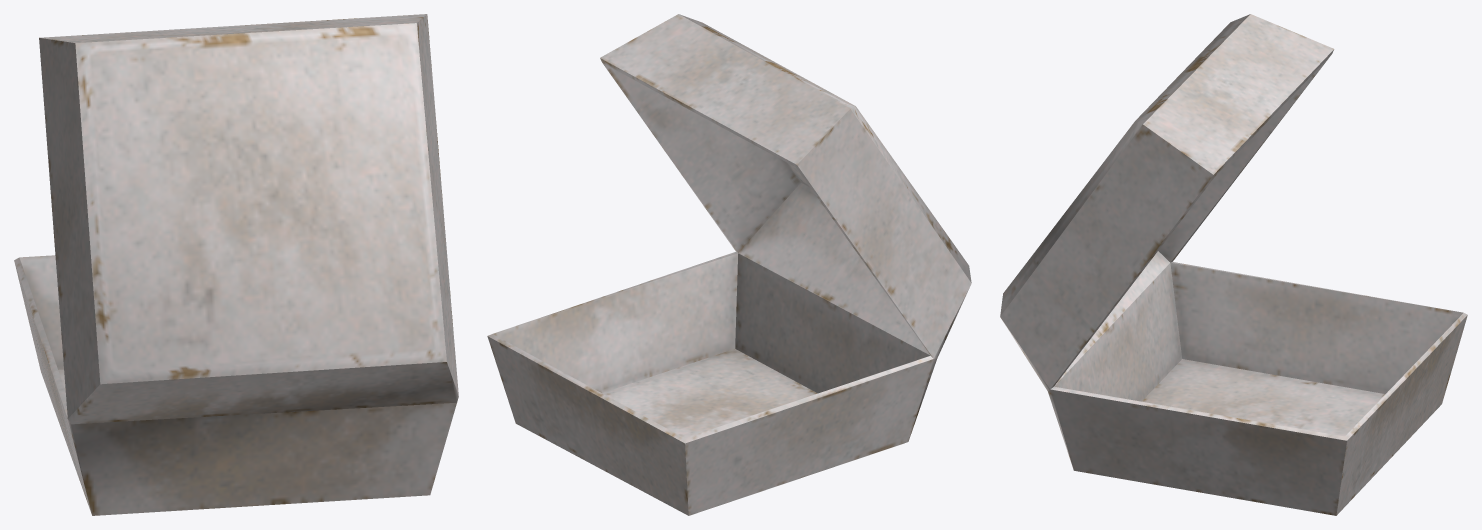
Rendered from SM_Food_Box_02.FBX.
3 renders of one model, left to right at view 1: azimuth 30°, elevation 25°; view 2: azimuth 150°, elevation 25°; view 3: azimuth 270°, elevation 25°, orthographic. The views are drawn at different scales.
Visible parts, largest first — view 1: SM_Food_Box_02; view 2: SM_Food_Box_02; view 3: SM_Food_Box_02.
Boxes of the visible parts, <box> form: SM_Food_Box_02: <box>14,14,458,515</box>; SM_Food_Box_02: <box>487,14,971,515</box>; SM_Food_Box_02: <box>1000,14,1467,515</box>.
Size of the model in its own units: 38.64 by 42.42 by 35.9.
